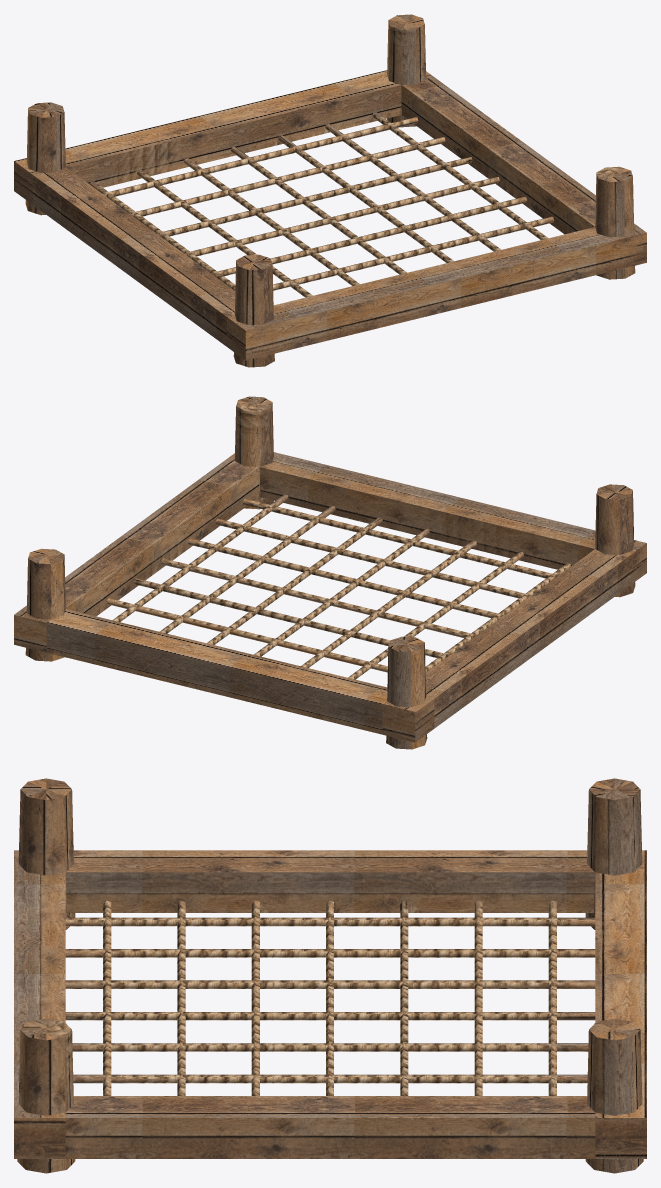
File: Collection_Net.glb
The picture shows the model from 3 angles, top to bottom: view 1: azimuth 30°, elevation 25°; view 2: azimuth 150°, elevation 25°; view 3: azimuth 270°, elevation 25°; orthographic projection. The views are drawn at different scales.
Parts seen in each view (by area): view 1: Post_2.001; view 2: Post_2.001; view 3: Post_2.001.
Boxes of the visible parts, bbox=[...] form: Post_2.001: bbox=[14, 14, 646, 367]; Post_2.001: bbox=[14, 396, 646, 749]; Post_2.001: bbox=[14, 778, 646, 1173].
Bounding box in the file's own units: 1.96 × 0.45 × 1.96.
1 material, 1 textured.
